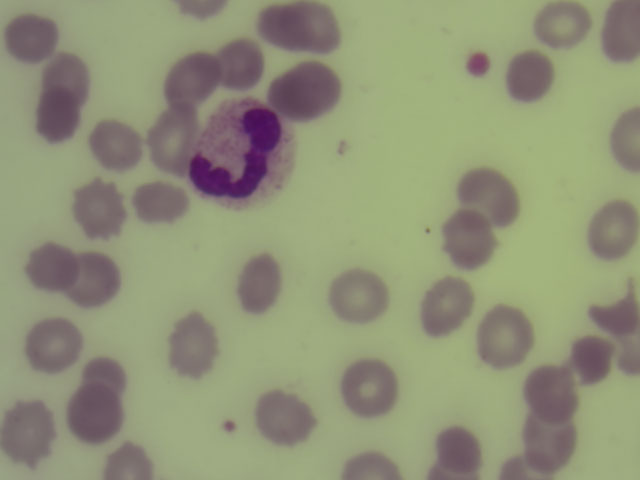Platelets: (468, 53, 489, 79), (226, 420, 238, 433)
RBC: (162, 309, 225, 374), (257, 387, 318, 446), (5, 400, 60, 465), (279, 67, 342, 120), (344, 358, 401, 416), (67, 387, 127, 442), (484, 303, 534, 368), (331, 267, 388, 322), (74, 180, 128, 237), (214, 39, 269, 94), (525, 410, 577, 468), (150, 103, 193, 173), (30, 319, 86, 371), (426, 274, 473, 335), (462, 172, 517, 222), (167, 55, 217, 109), (441, 216, 493, 267), (28, 241, 80, 292), (298, 4, 350, 55), (590, 204, 640, 257), (594, 285, 640, 342), (235, 256, 278, 314), (94, 119, 140, 173), (528, 367, 578, 416), (511, 53, 557, 101), (76, 258, 123, 304), (42, 91, 81, 146), (537, 3, 589, 44), (438, 428, 484, 474), (340, 448, 405, 480), (602, 1, 637, 60), (10, 16, 56, 58), (106, 445, 161, 480), (261, 9, 302, 55), (137, 184, 187, 221), (568, 338, 608, 384), (48, 51, 88, 96), (610, 108, 638, 172), (86, 356, 127, 392), (504, 455, 558, 480), (613, 339, 640, 388), (182, 1, 232, 19)
WBC: (182, 94, 300, 208)
